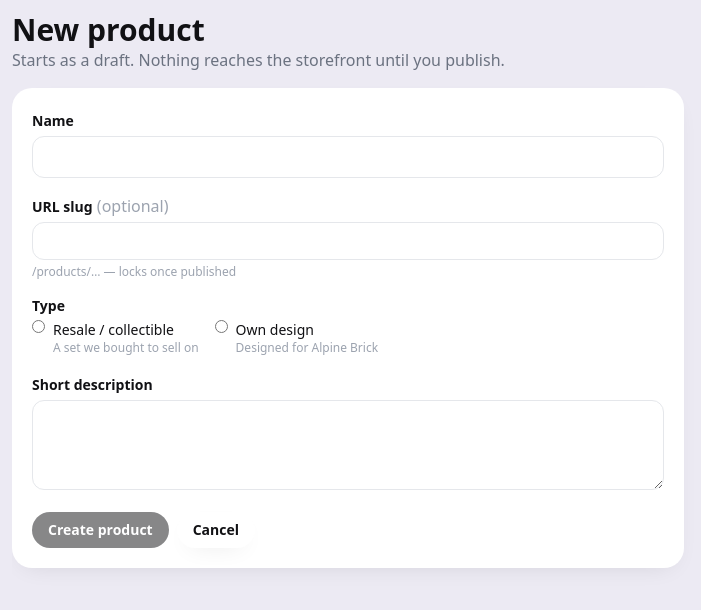
it: ProductForm › shows field errors from core
In the field labelled "Name": (348, 157) [32,136,664,178], type "Castle Set"
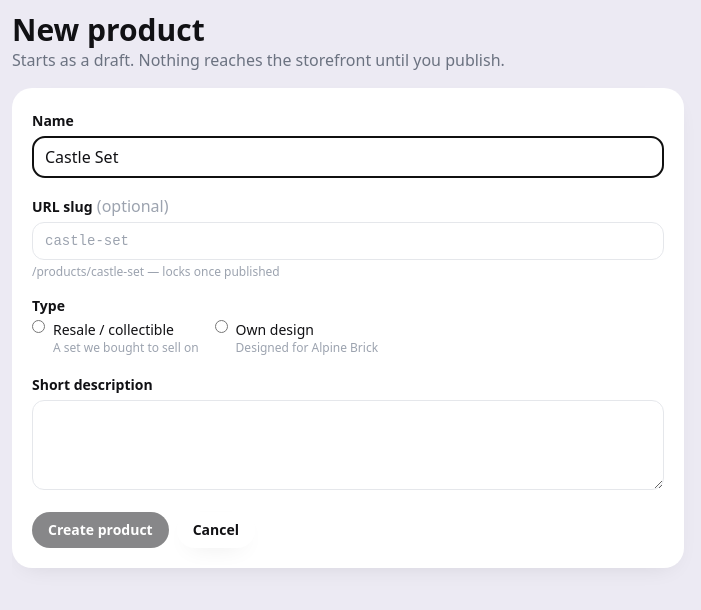
Click the radio button labelled "Resale / collectible A set we bought to sell on": (38, 326) [32,320,45,333]
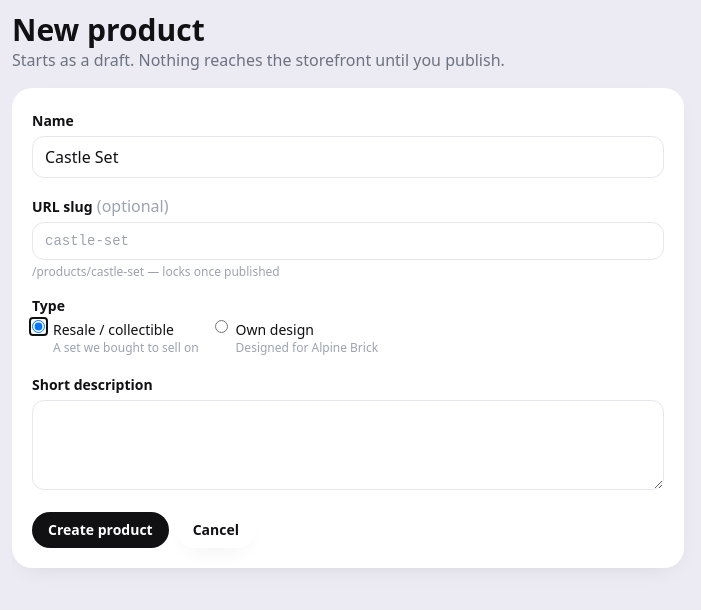
Click the button "Create product": (100, 530) [32,512,169,548]
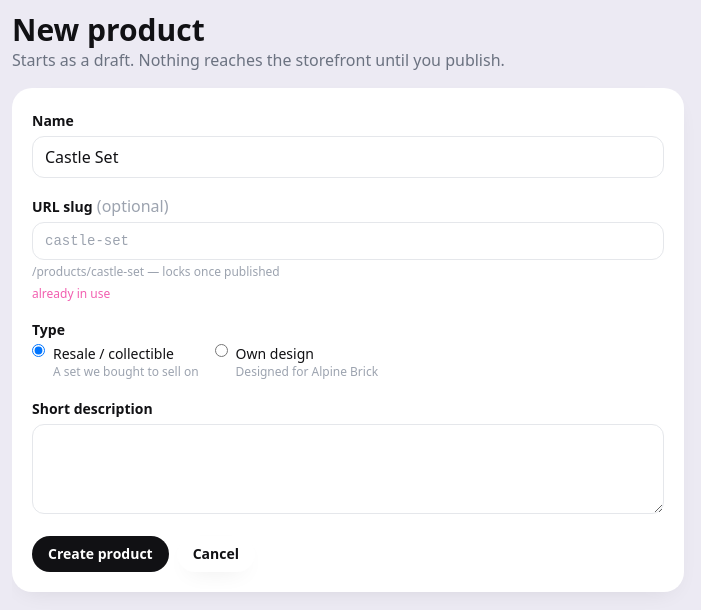
Now the text "already in use" is shown, box [32,285,110,302]
